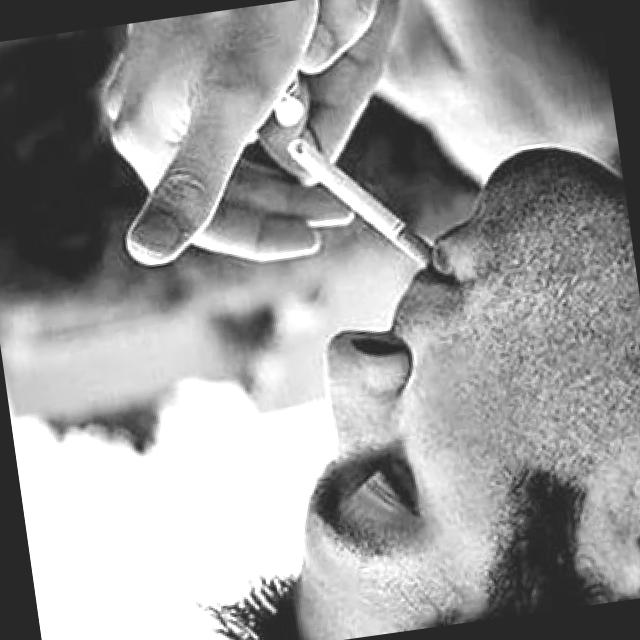smoke: (286, 116, 444, 290)
